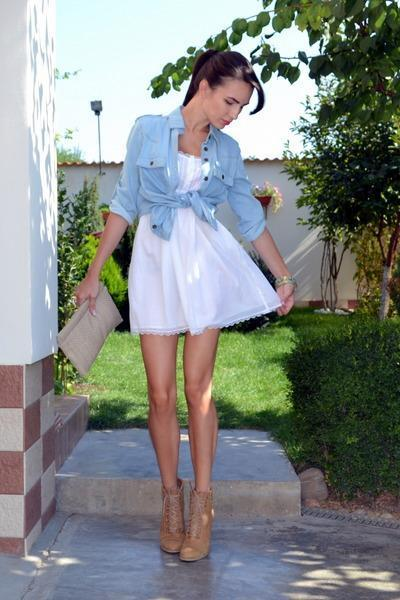bag: (60, 293, 122, 383)
dress: (128, 153, 281, 335)
shirt: (108, 108, 264, 240)
shoe: (160, 488, 217, 559)
